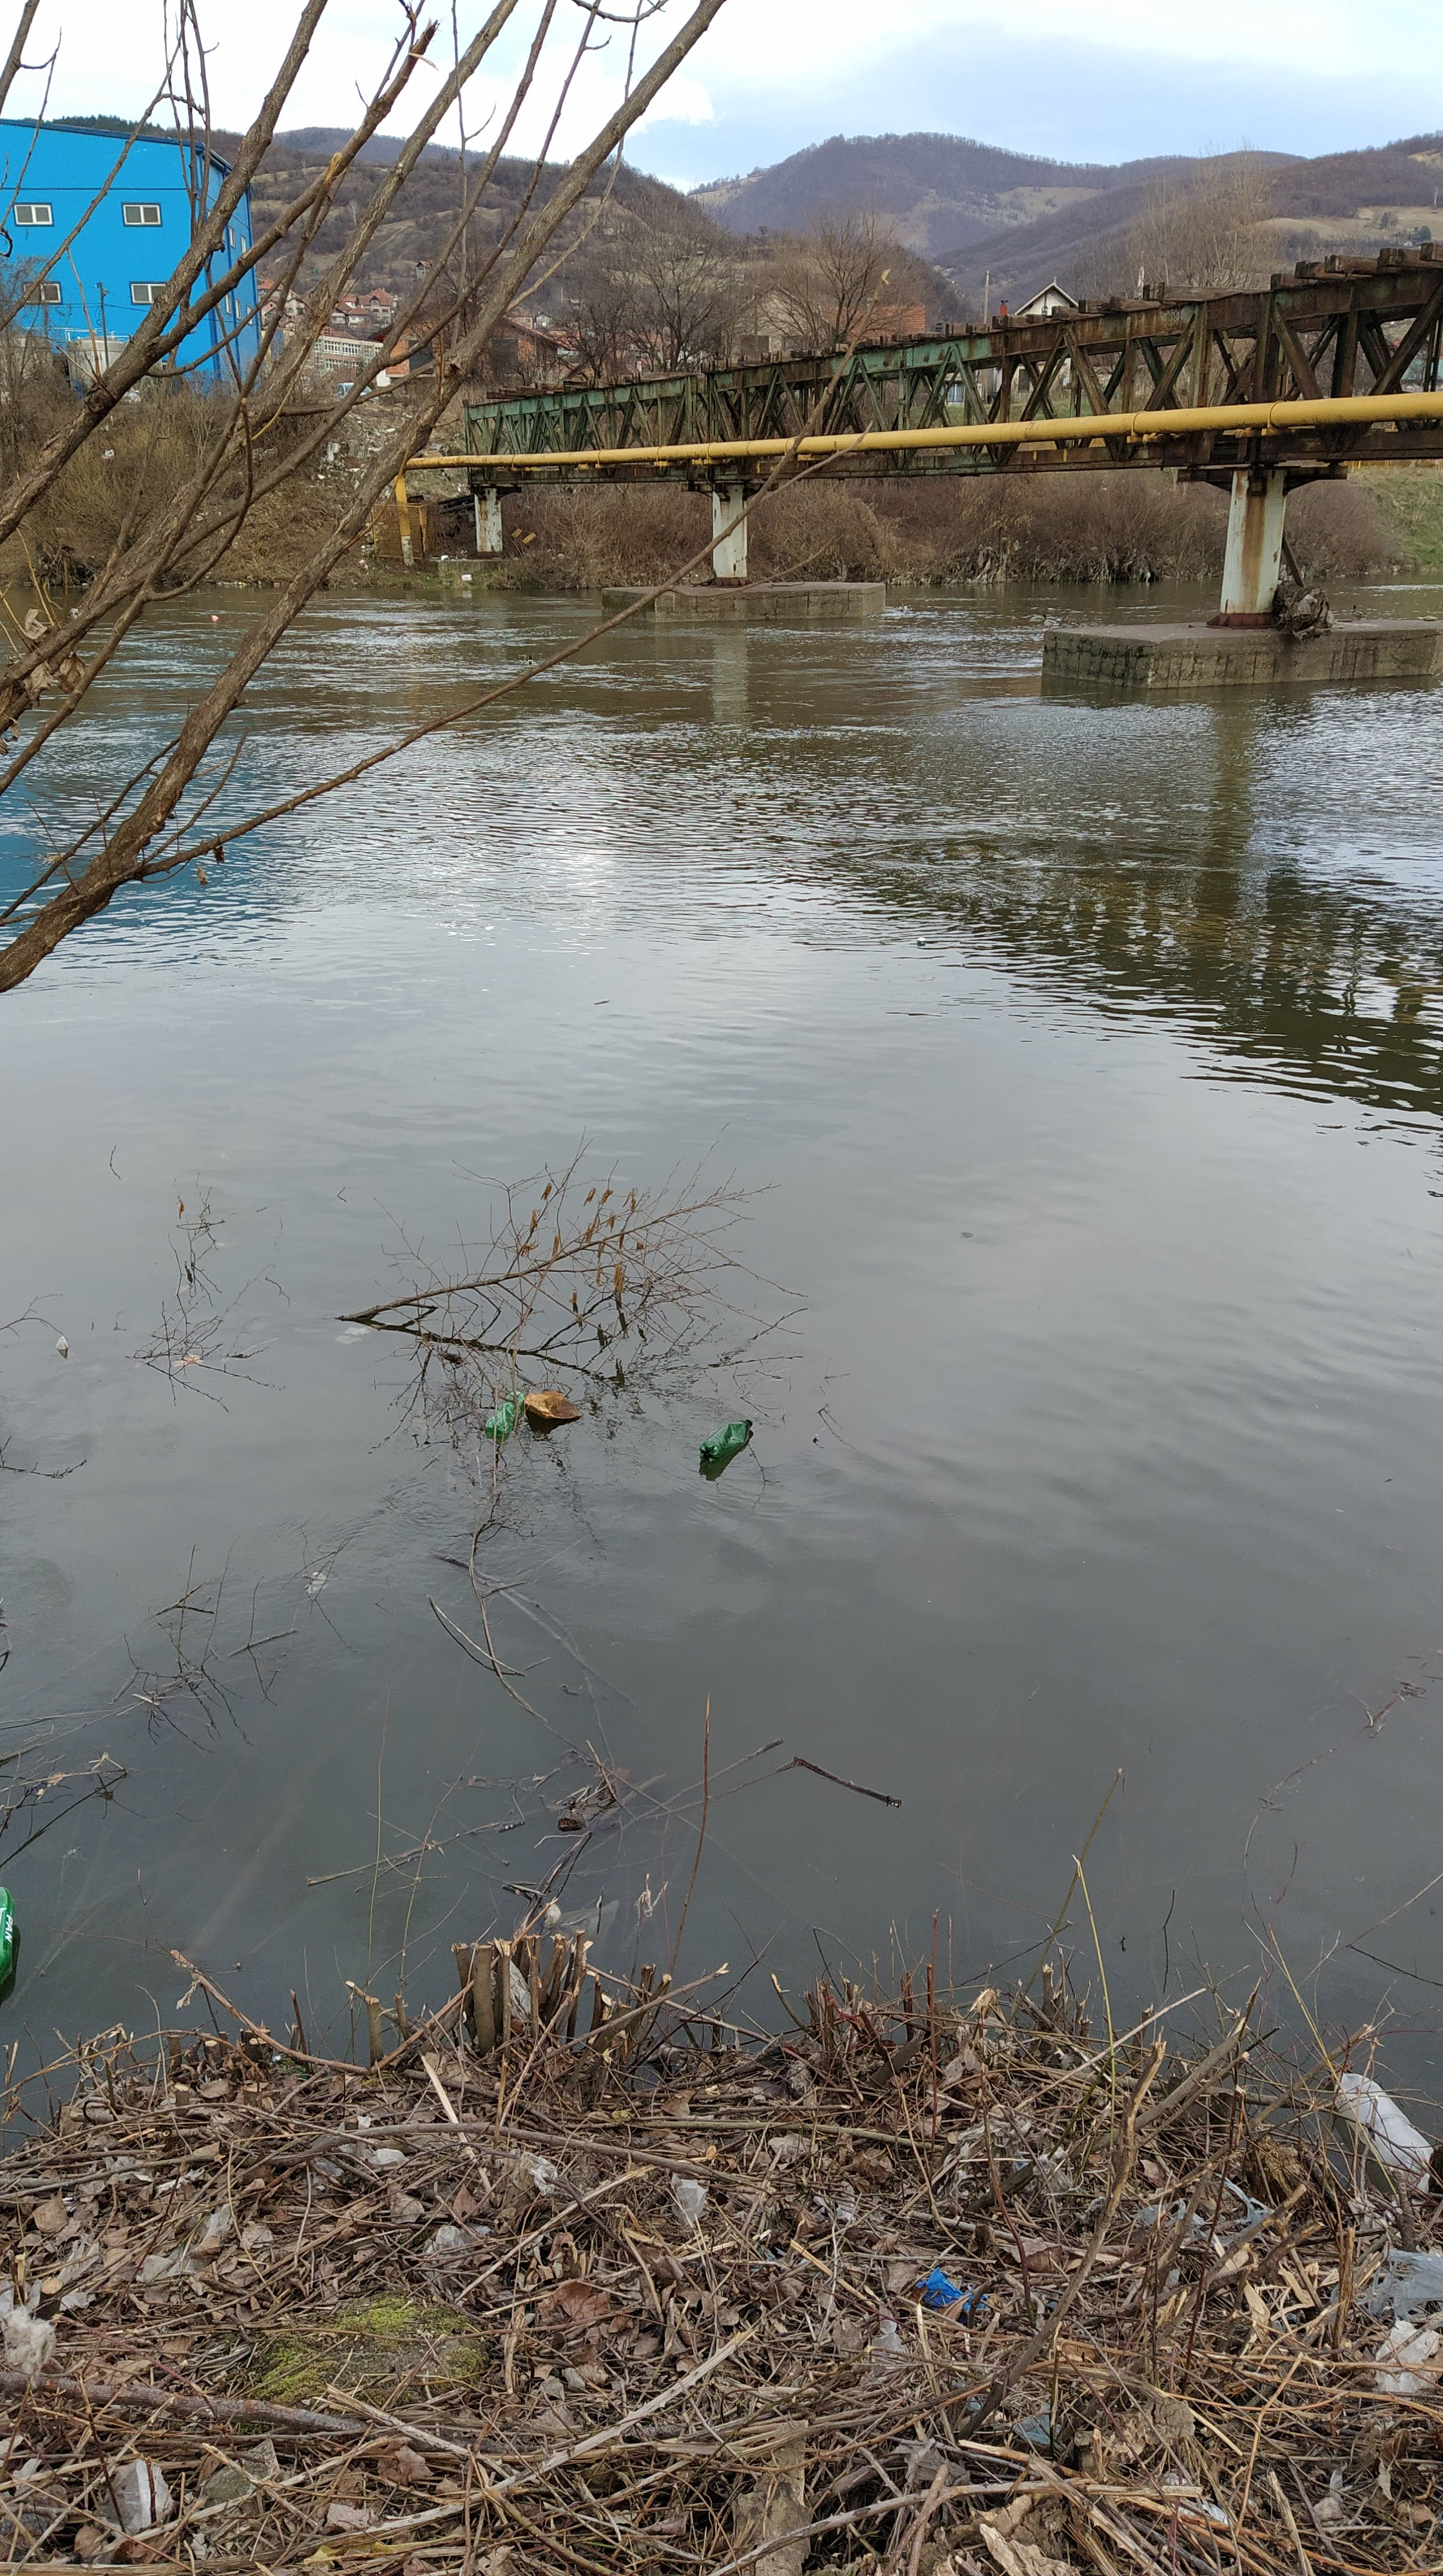Plastic Bottle: (1335, 2070, 1434, 2194), (699, 1419, 754, 1463), (485, 1391, 522, 1437), (0, 1886, 14, 1987), (905, 603, 910, 610), (212, 616, 218, 621)
